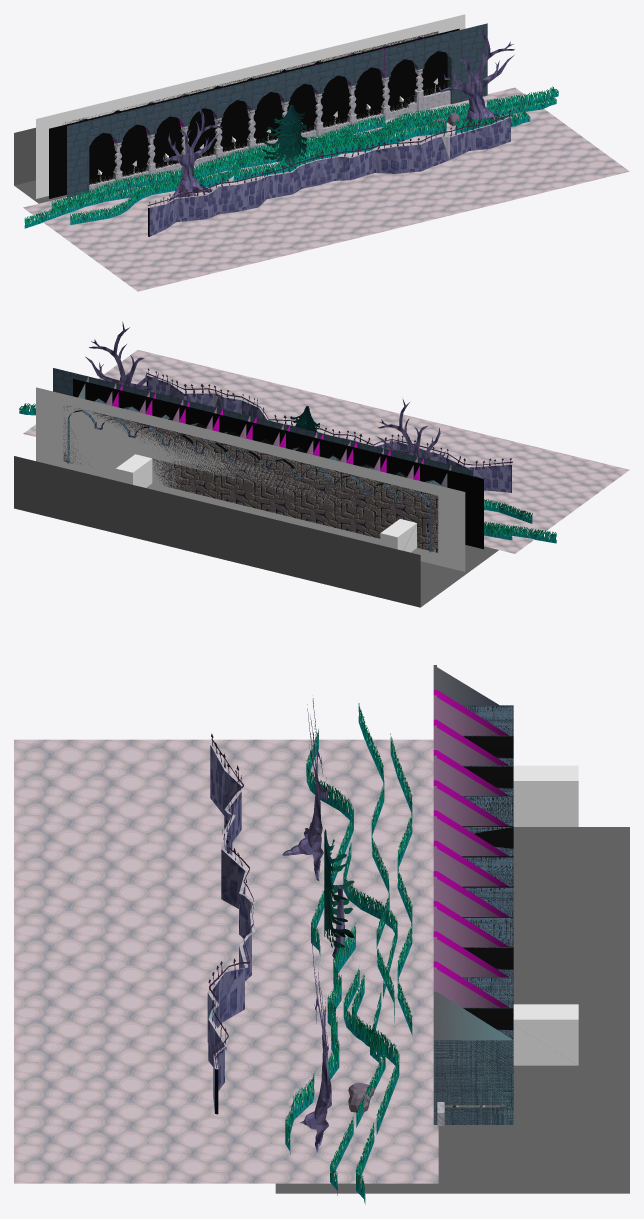
The model's file is jin_02.dae.
3 views of the same model, one above another, from view 1: azimuth 30°, elevation 25°; view 2: azimuth 150°, elevation 25°; view 3: azimuth 270°, elevation 25° (orthographic). The views are drawn at different scales.
Parts seen in each view (by area): view 1: pPlane365_q093, a_gawa01, polySurface1010, polySurface972_q079_part0, a_gawa02, polySurface993_q105, polySurface995_q103, polySurface995_q096, polySurface993_q099, polySurface1012, polySurface952_q082, polySurface993_q102 (+9 smaller); view 2: pPlane369, a_gawa02, pPlane365_q093, pPlane366, a_gawa01, polySurface1010, polySurface972_q079_part0, polySurface972_q079_part1, polySurface952_q082, polySurface952_q092, bero_part0, polySurface995_q096 (+2 smaller); view 3: pPlane365_q093, pPlane369, a_gawa01, polySurface1010, bero_part0, polySurface972_q079_part0, polySurface993_q105, polySurface993_q102, polySurface993_q106, polySurface995_q103, polySurface993_q099, polySurface995_q096 (+7 smaller).
Boxes of the visible parts, <box> form: pPlane365_q093: <box>23,87,629,291</box>; a_gawa01: <box>49,28,459,198</box>; polySurface1010: <box>67,23,487,197</box>; polySurface972_q079_part0: <box>149,117,510,236</box>; a_gawa02: <box>36,14,465,198</box>; polySurface993_q105: <box>279,109,530,165</box>; polySurface995_q103: <box>51,115,385,211</box>; polySurface995_q096: <box>24,128,354,228</box>; polySurface993_q099: <box>70,156,304,224</box>; polySurface1012: <box>89,90,450,191</box>; polySurface952_q082: <box>438,25,514,127</box>; polySurface993_q102: <box>323,86,558,147</box>; pPlane369: <box>14,456,498,607</box>; a_gawa02: <box>36,387,465,571</box>; pPlane365_q093: <box>23,350,629,553</box>; pPlane366: <box>63,406,438,552</box>; a_gawa01: <box>67,377,483,551</box>; polySurface1010: <box>53,368,473,552</box>; polySurface972_q079_part0: <box>148,376,511,492</box>; polySurface972_q079_part1: <box>146,368,512,492</box>; polySurface952_q082: <box>85,321,160,393</box>; polySurface952_q092: <box>376,399,445,458</box>; bero_part0: <box>115,463,416,548</box>; polySurface995_q096: <box>484,521,556,543</box>; pPlane365_q093: <box>14,739,438,1183</box>; pPlane369: <box>275,827,629,1193</box>; a_gawa01: <box>433,665,513,1124</box>; polySurface1010: <box>434,705,513,1124</box>; bero_part0: <box>513,765,578,1065</box>; polySurface972_q079_part0: <box>207,745,251,1112</box>; polySurface993_q105: <box>285,922,355,1154</box>; polySurface993_q102: <box>352,973,399,1204</box>; polySurface993_q106: <box>330,966,385,1195</box>; polySurface995_q103: <box>390,733,412,1034</box>; polySurface993_q099: <box>306,729,353,955</box>; polySurface995_q096: <box>358,703,394,1022</box>.
Bounding box in the file's own units: 158 × 36.64 × 84.94.
